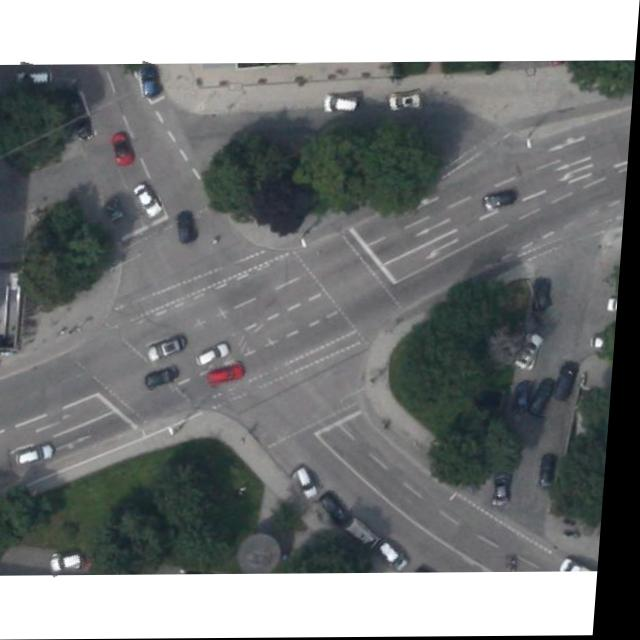vehicle: (321, 490, 361, 527), (149, 332, 193, 364), (132, 179, 167, 219), (211, 358, 253, 391), (382, 540, 421, 573), (295, 467, 332, 501), (351, 519, 390, 551), (20, 440, 63, 469), (134, 63, 167, 100), (534, 376, 563, 417), (15, 64, 56, 92), (174, 210, 204, 246), (148, 364, 185, 392), (485, 186, 522, 214), (560, 360, 585, 401), (109, 132, 137, 167), (523, 332, 548, 371), (56, 549, 94, 574), (542, 452, 566, 491), (497, 470, 522, 507), (200, 342, 235, 368), (532, 276, 557, 311), (325, 92, 361, 114), (517, 381, 541, 414), (390, 91, 426, 110), (74, 115, 99, 142), (107, 197, 128, 221)
